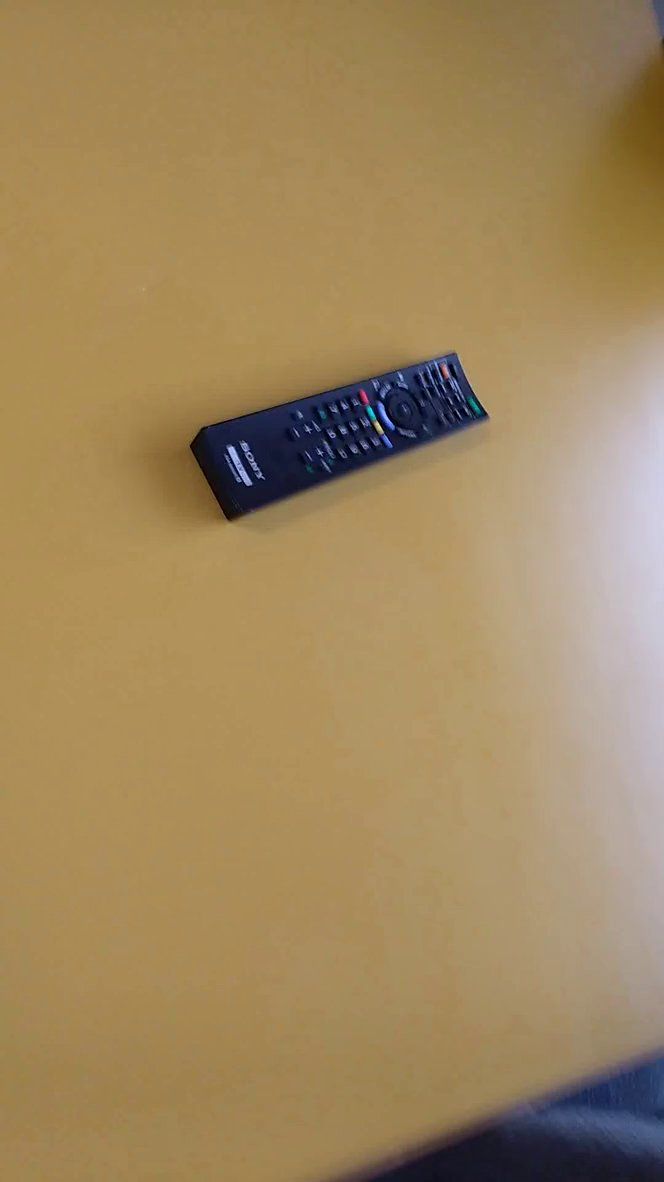remote: (177, 334, 504, 558)
